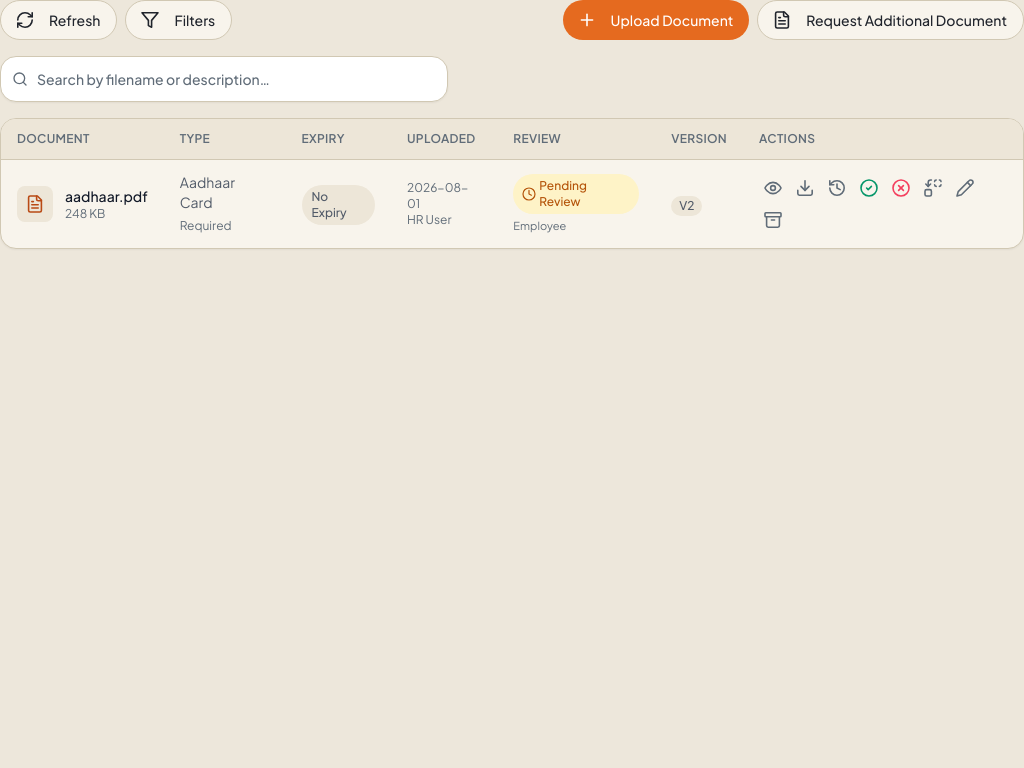
Scenario: DocumentsTab › shows per-version review badges in the history modal
This screenshot has width=1024, height=768.
Step 1. Click the button titled "History" → (837, 188), box x1=823 y1=174 x2=851 y2=202
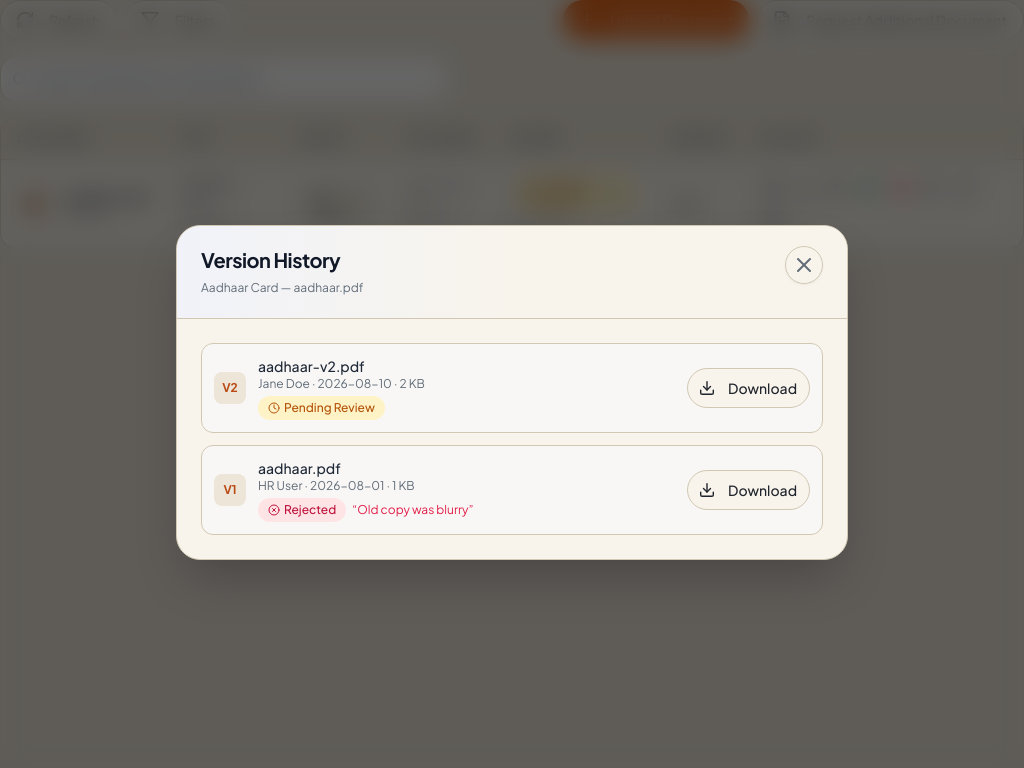
Result: the text "Rejected" is shown at x1=258 y1=498 x2=346 y2=522
Result: the text "“Old copy was blurry”" is shown at x1=352 y1=502 x2=474 y2=518
